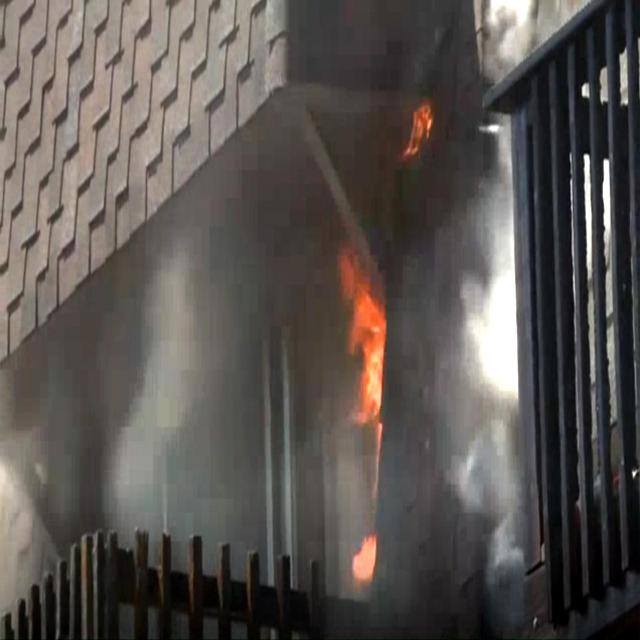Fire: (338, 224, 396, 601), (406, 95, 432, 170)
